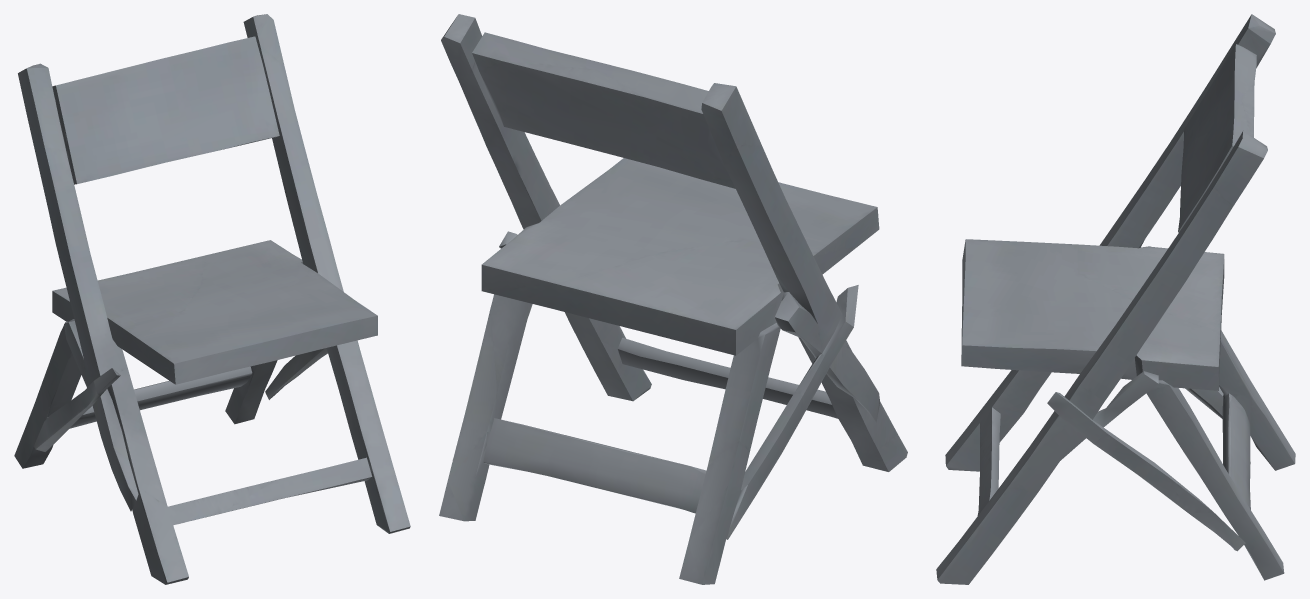
The model's file is chair.glb.
3 views of the same model, side by side, from view 1: azimuth 30°, elevation 25°; view 2: azimuth 150°, elevation 25°; view 3: azimuth 270°, elevation 25° (orthographic). The views are drawn at different scales.
Visible parts, largest first — view 1: model; view 2: model; view 3: model.
Part boxes in pixels (x1=…): model: x1=14, y1=14, x2=410, y2=584; model: x1=439, y1=14, x2=907, y2=584; model: x1=936, y1=14, x2=1295, y2=584.
Bounding box in the file's own units: 1.24 × 1.9 × 1.38.
1 material, 1 textured.
